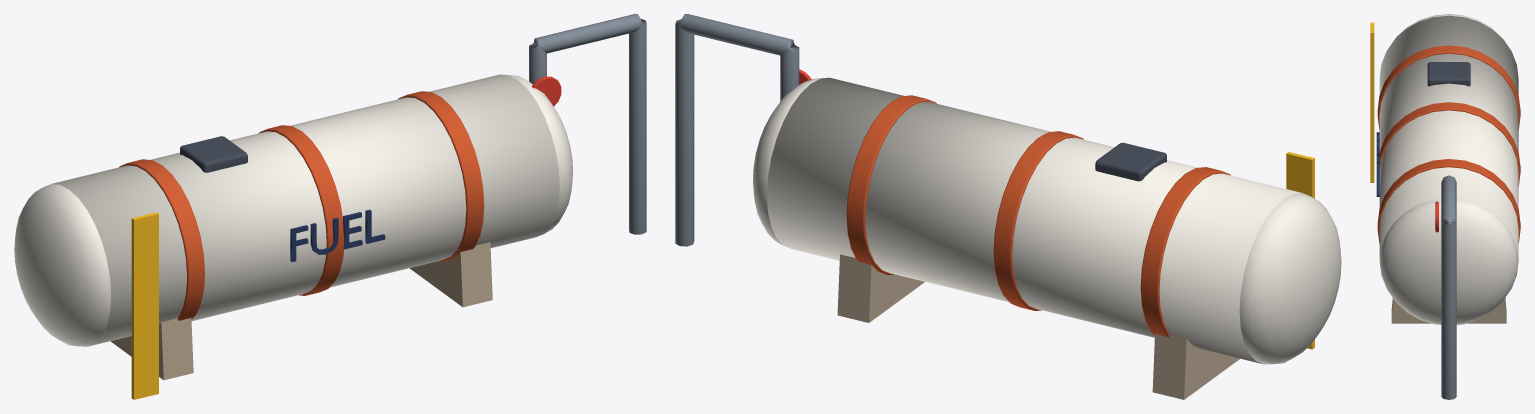
Rendered from dune_tank_long.glb.
3 views of the same model, side by side, from view 1: azimuth 30°, elevation 25°; view 2: azimuth 150°, elevation 25°; view 3: azimuth 270°, elevation 25° (orthographic). The views are drawn at different scales.
Visible parts, largest first — view 1: TankLong; view 2: TankLong; view 3: TankLong.
Part boxes in pixels (bbox=[...]): TankLong: bbox=[14, 14, 646, 399]; TankLong: bbox=[675, 14, 1341, 399]; TankLong: bbox=[1370, 14, 1520, 399].
Size of the model in its own units: 12.28 by 4.16 by 3.13.
